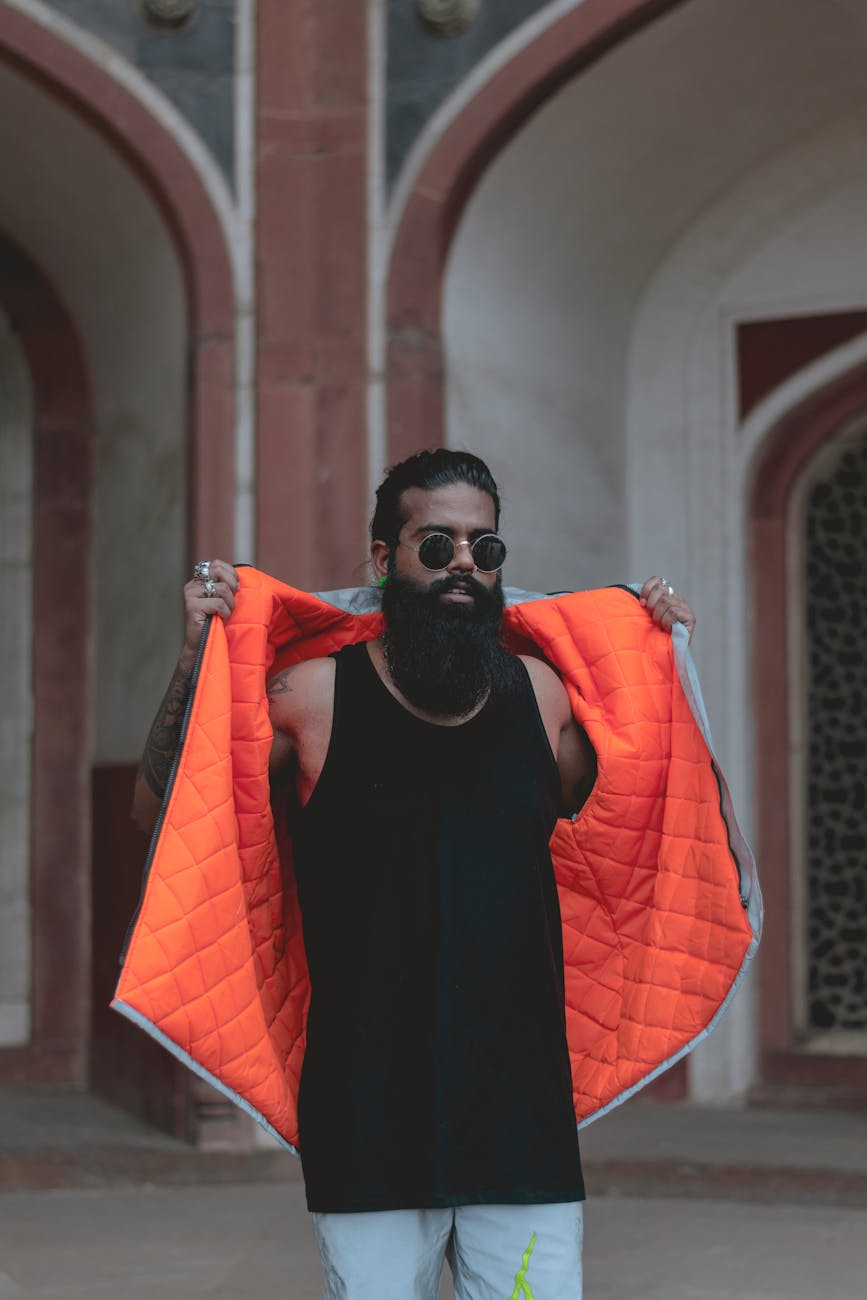sleeveless_top: (284, 631, 574, 995)
